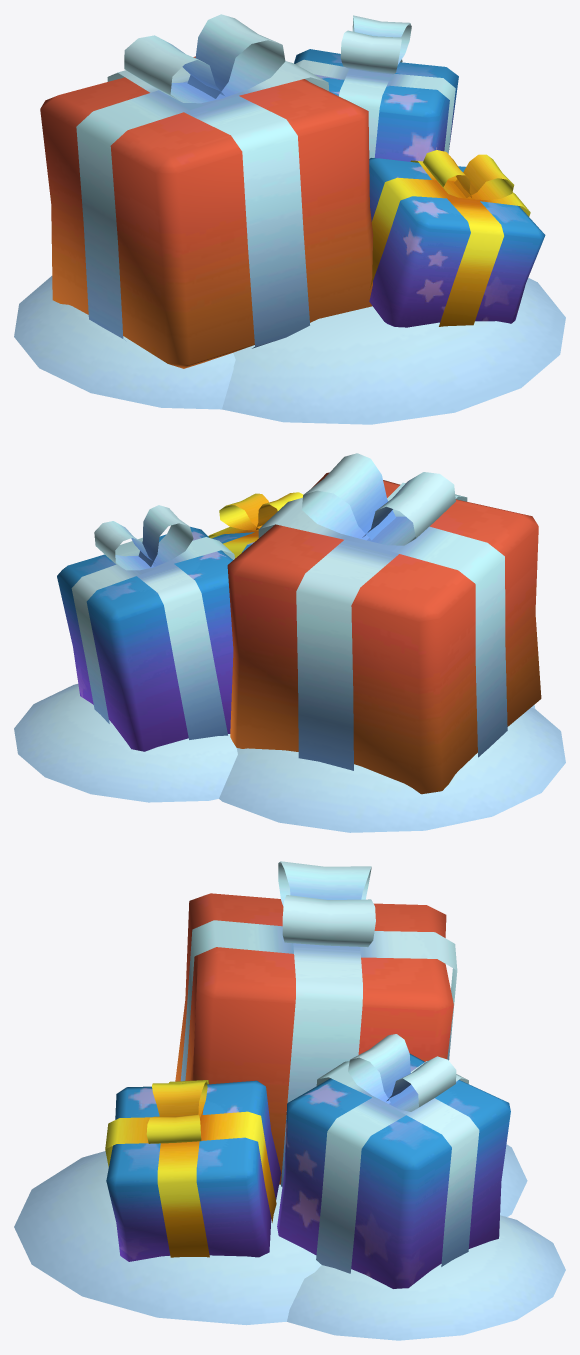
Rendered from FloorDecoXmas-005_02_04_5708.fbx.
3 renders of one model, top to bottom at view 1: azimuth 30°, elevation 25°; view 2: azimuth 150°, elevation 25°; view 3: azimuth 270°, elevation 25°, orthographic. The views are drawn at different scales.
Visible parts, largest first — view 1: xmas_deco_03; view 2: xmas_deco_03; view 3: xmas_deco_03.
Part boxes in pixels (<box>): xmas_deco_03: <box>14,14,565,424</box>; xmas_deco_03: <box>14,453,565,832</box>; xmas_deco_03: <box>14,861,565,1340</box>.
Size of the model in its own units: 2.07 by 1.18 by 1.96.
